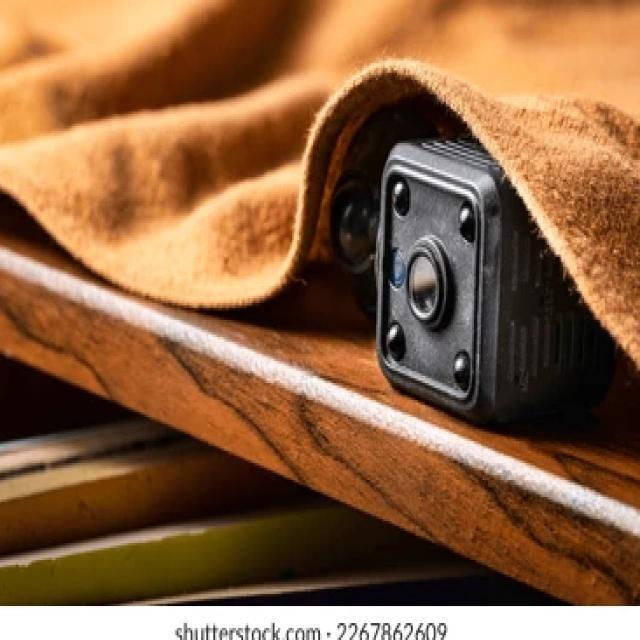hidden camera: (406, 246, 443, 321)
